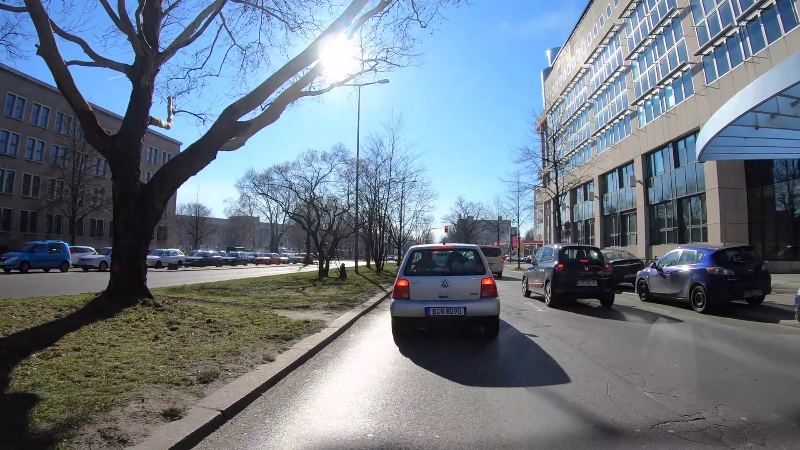Plate: (426, 307, 465, 314), (739, 288, 763, 297), (575, 279, 599, 286), (623, 273, 635, 278)
